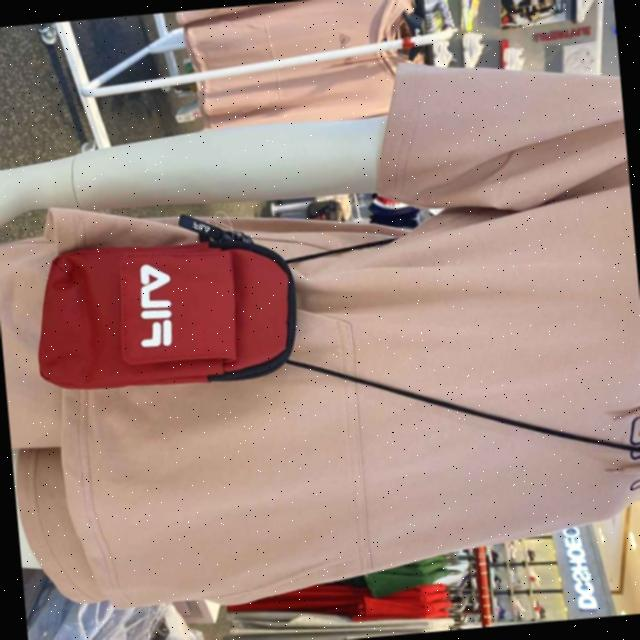handbag: (20, 228, 308, 399)
